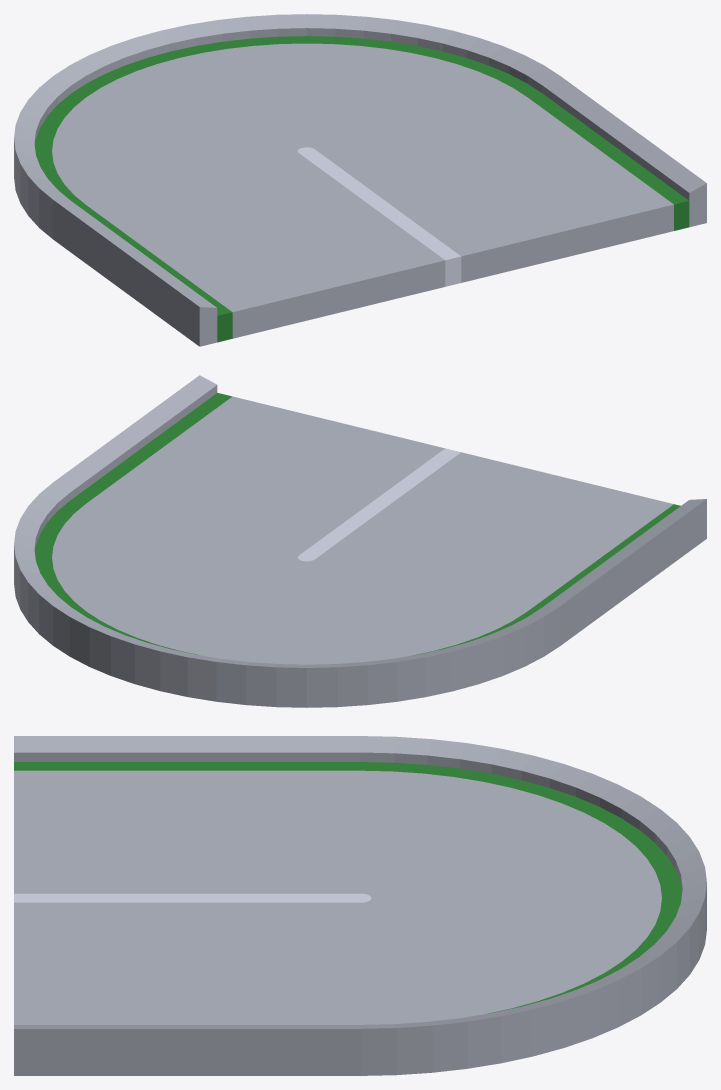
Rendered from flat_road_end.glb.
3 renders of one model, top to bottom at view 1: azimuth 30°, elevation 25°; view 2: azimuth 150°, elevation 25°; view 3: azimuth 270°, elevation 25°, orthographic. The views are drawn at different scales.
Parts seen in each view (by area): view 1: flat_end; view 2: flat_end; view 3: flat_end.
Boxes of the visible parts, x1,y1,x2,y2 form: flat_end: (14,14,706,346); flat_end: (14,375,706,707); flat_end: (14,736,706,1075).
Size of the model in its own units: 20 by 1.5 by 20.
